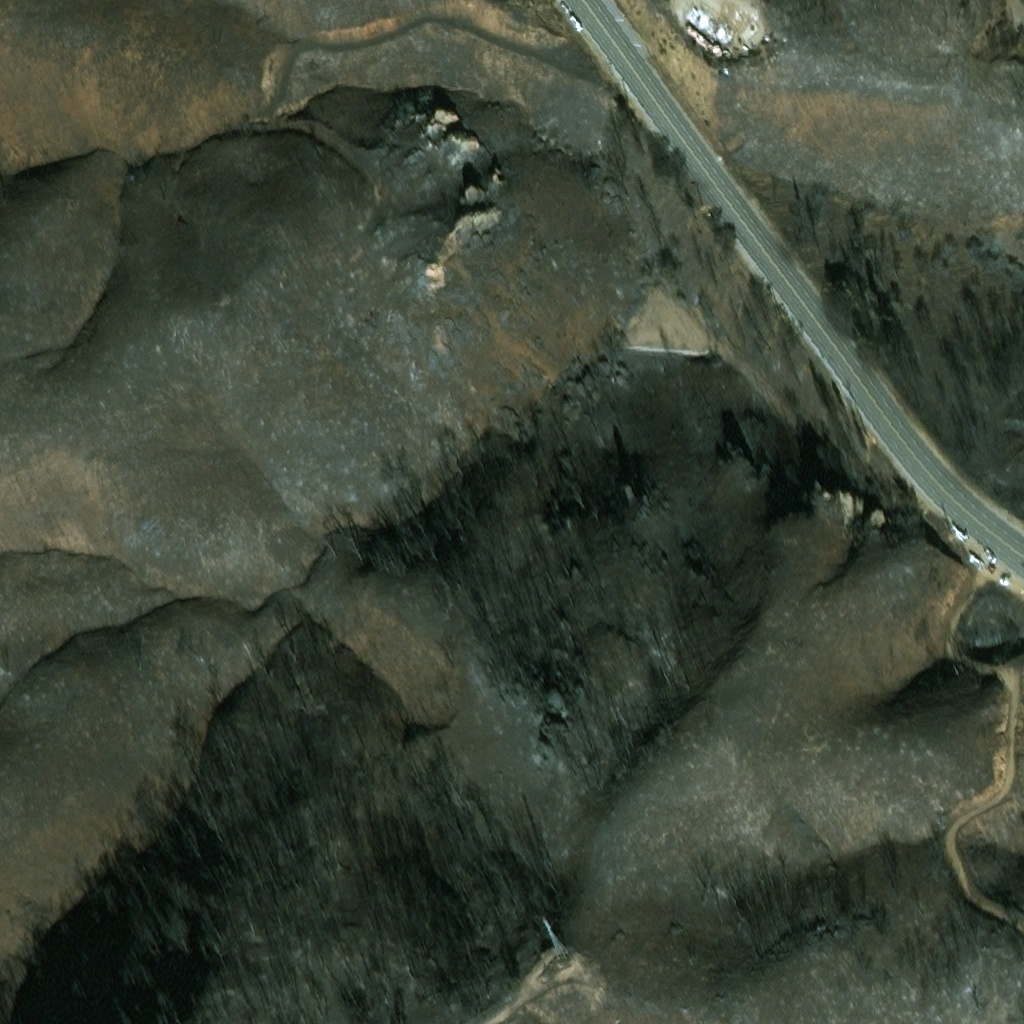2 major-damage: (705, 17, 734, 45), (686, 27, 714, 53), (685, 4, 708, 25)
3 destroyed: (736, 60, 751, 73)
